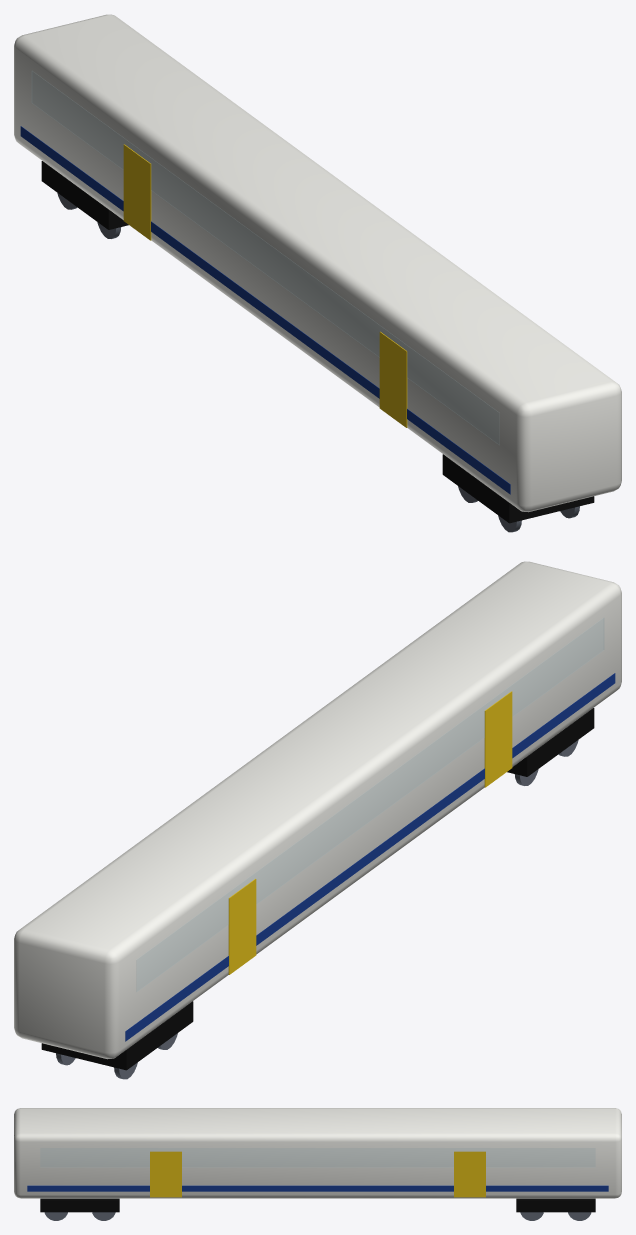
The model's file is rail.train.carriage.glb.
3 views of the same model, one above another, from view 1: azimuth 30°, elevation 25°; view 2: azimuth 150°, elevation 25°; view 3: azimuth 270°, elevation 25° (orthographic). The views are drawn at different scales.
Parts seen in each view (by area): view 1: main__paint_white, main__glass, main__plastic_blue, main__plastic_yellow, main__plastic_black, main__steel_painted; view 2: main__paint_white, main__glass, main__plastic_blue, main__plastic_yellow, main__plastic_black, main__steel_painted; view 3: main__paint_white, main__glass, main__plastic_blue, main__plastic_yellow, main__plastic_black, main__steel_painted.
Boxes of the visible parts, x1,y1,x2,y2 form: main__paint_white: [14, 14, 621, 512]; main__glass: [32, 71, 499, 444]; main__plastic_blue: [20, 126, 510, 494]; main__plastic_yellow: [123, 144, 407, 427]; main__plastic_black: [41, 161, 594, 523]; main__steel_painted: [57, 193, 579, 532]; main__paint_white: [14, 561, 621, 1059]; main__glass: [136, 618, 603, 991]; main__plastic_blue: [125, 673, 615, 1041]; main__plastic_yellow: [228, 691, 512, 974]; main__plastic_black: [41, 708, 594, 1070]; main__steel_painted: [56, 740, 578, 1079]; main__paint_white: [14, 1108, 621, 1198]; main__glass: [40, 1148, 595, 1166]; main__plastic_blue: [27, 1185, 608, 1191]; main__plastic_yellow: [150, 1151, 485, 1197]; main__plastic_black: [40, 1198, 595, 1212]; main__steel_painted: [44, 1212, 591, 1220].
Size of the model in its own units: 2.74 by 3.79 by 23.
